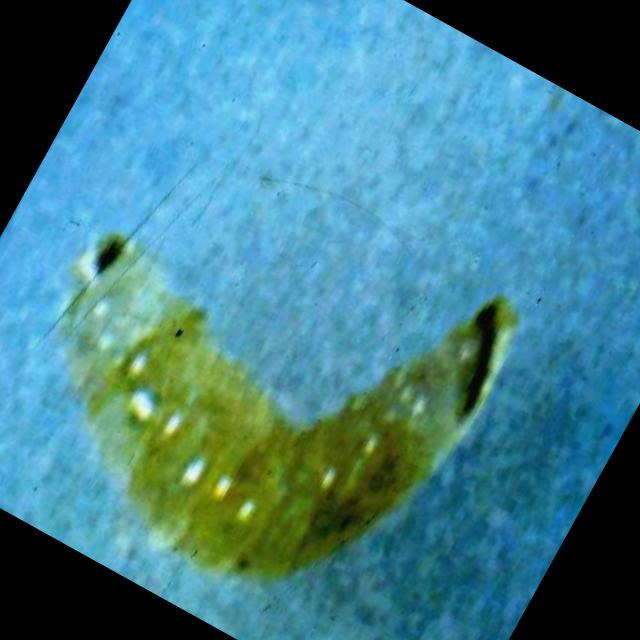whorl-maggot: (57, 233, 522, 585)
